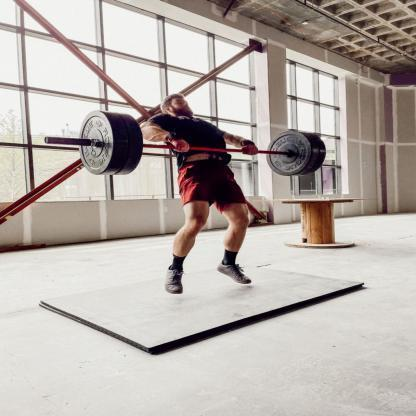barbell: (42, 108, 328, 177)
